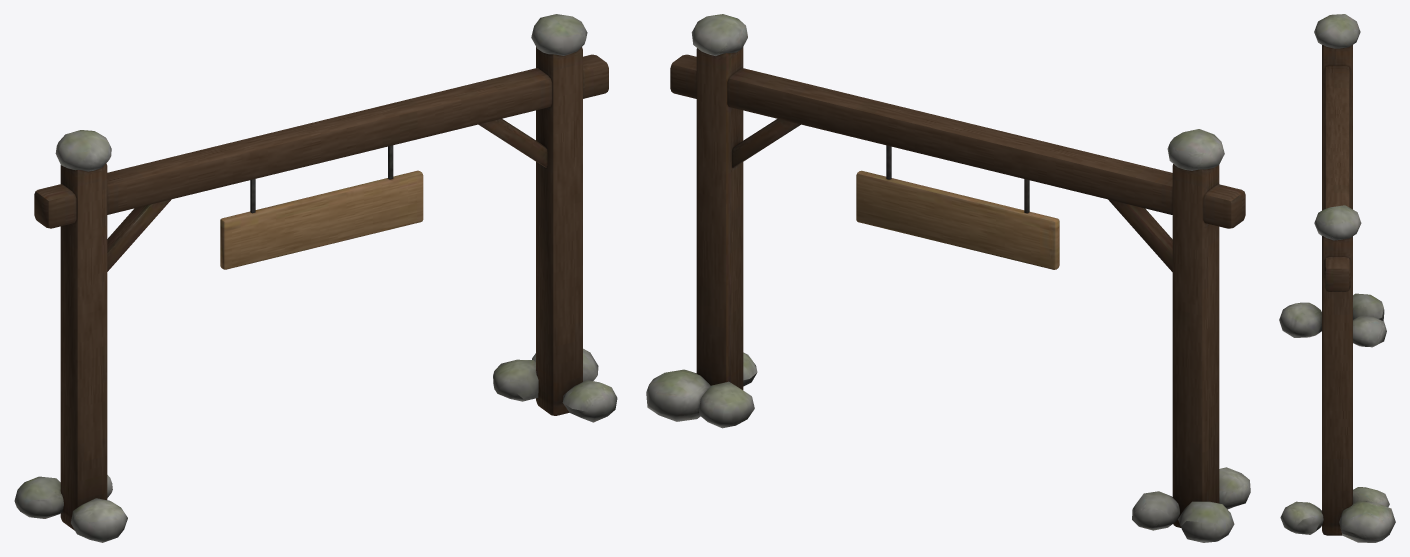
The model's file is gate.glb.
3 views of the same model, side by side, from view 1: azimuth 30°, elevation 25°; view 2: azimuth 150°, elevation 25°; view 3: azimuth 270°, elevation 25° (orthographic). The views are drawn at different scales.
Visible parts, largest first — view 1: gate; view 2: gate; view 3: gate.
Part boxes in pixels (left/top/right/bottom): gate: left=14, top=14, right=617, bottom=542; gate: left=646, top=14, right=1250, bottom=542; gate: left=1279, top=14, right=1395, bottom=542.
Size of the model in its own units: 4.61 by 3.01 by 0.9805.
1 material, 1 textured.
